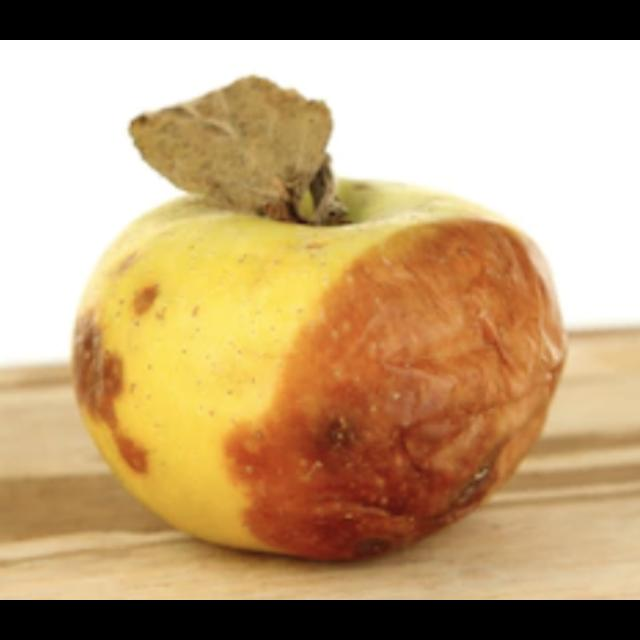Apel Tidak Segar: (62, 175, 574, 561)
